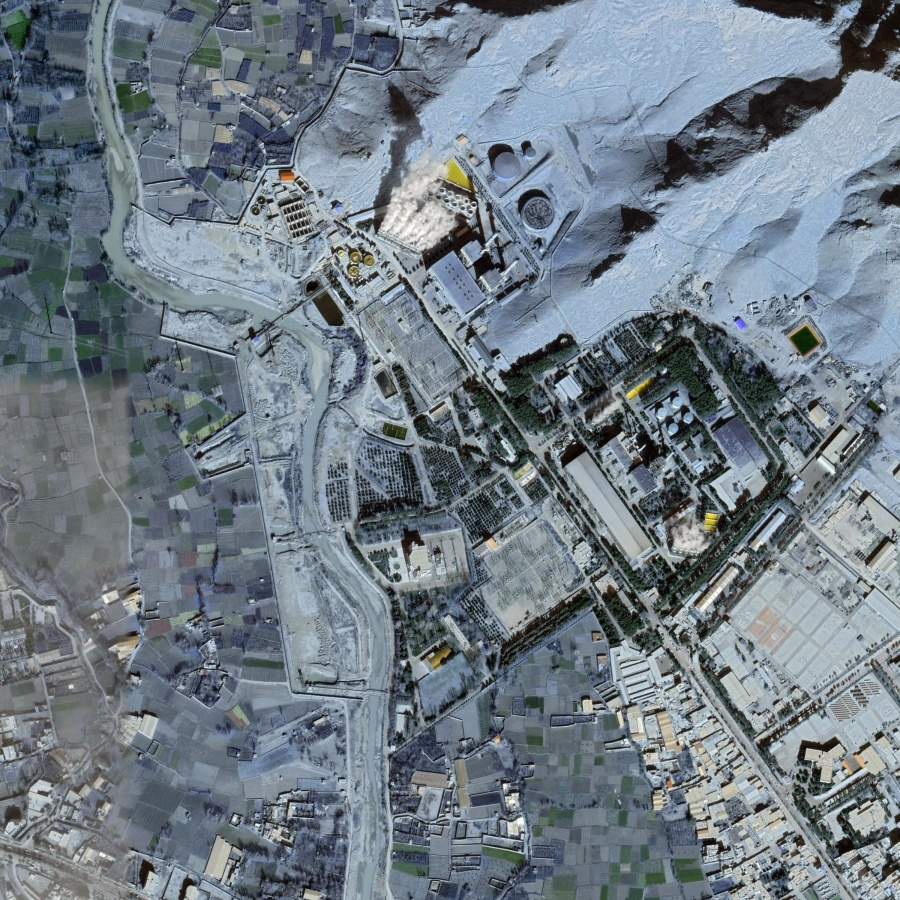PowerPlant: (280, 118, 849, 542)
